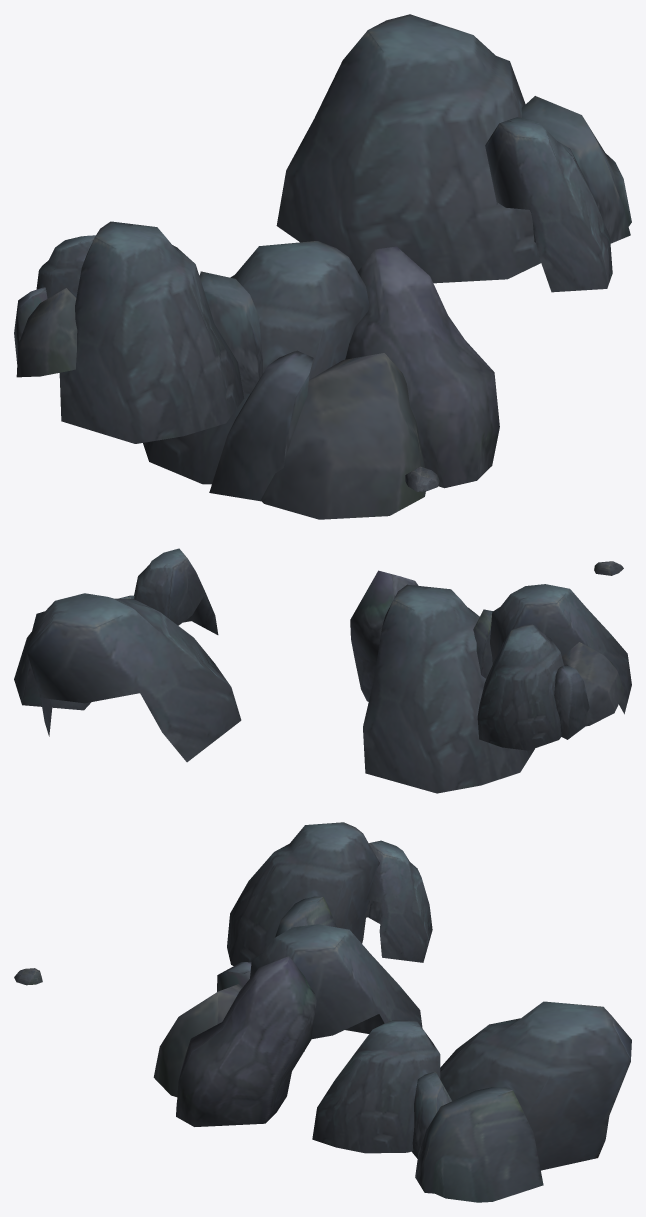
The model's file is Area_12_50.fbx.
3 renders of one model, top to bottom at view 1: azimuth 30°, elevation 25°; view 2: azimuth 150°, elevation 25°; view 3: azimuth 270°, elevation 25°, orthographic. The views are drawn at different scales.
Parts seen in each view (by area): view 1: Area_12_50; view 2: Area_12_50; view 3: Area_12_50.
Part boxes in pixels (left/top/right/bottom): Area_12_50: left=14, top=14, right=631, bottom=519; Area_12_50: left=14, top=548, right=631, bottom=793; Area_12_50: left=14, top=822, right=631, bottom=1202.
Bounding box in the file's own units: 3054 × 1014 × 2978.
